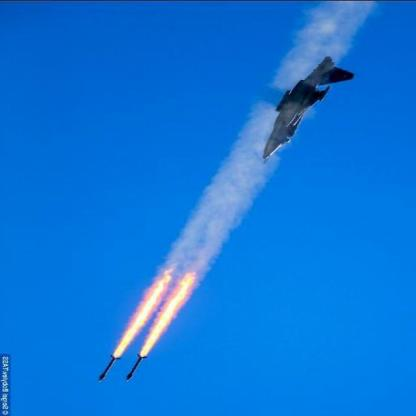MIL_TBM: (99, 355, 123, 382), (127, 354, 148, 382)
